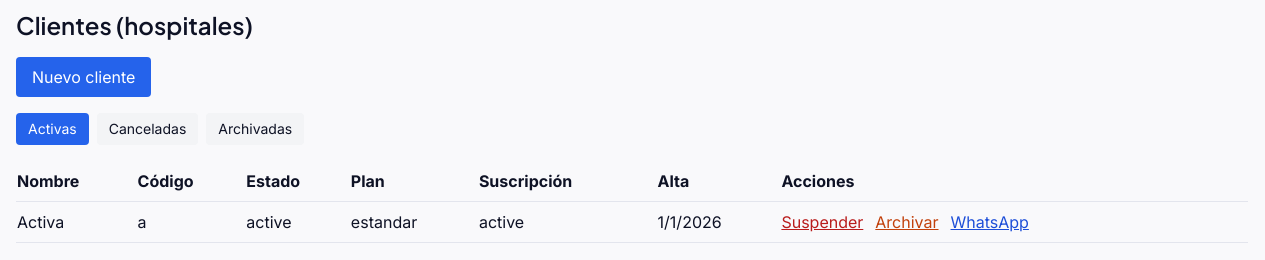
AdminTenants — tabs › tab Canceladas muestra solo subscription_status canceling/canceled sin archivar
This screenshot has width=1265, height=260.
What coordinates should you click on to do the following:
click the button "Canceladas"
I would click on:
 (148, 129)
Its box is [97, 113, 198, 145].
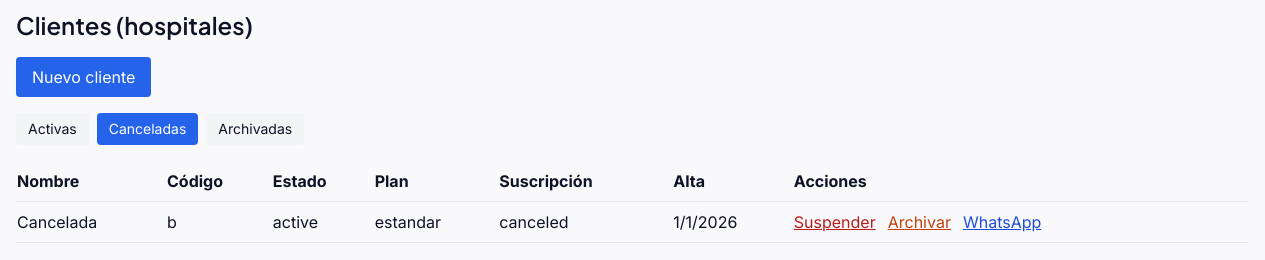
expect the text "Cancelada" is shown: met, box [16, 202, 166, 242]
